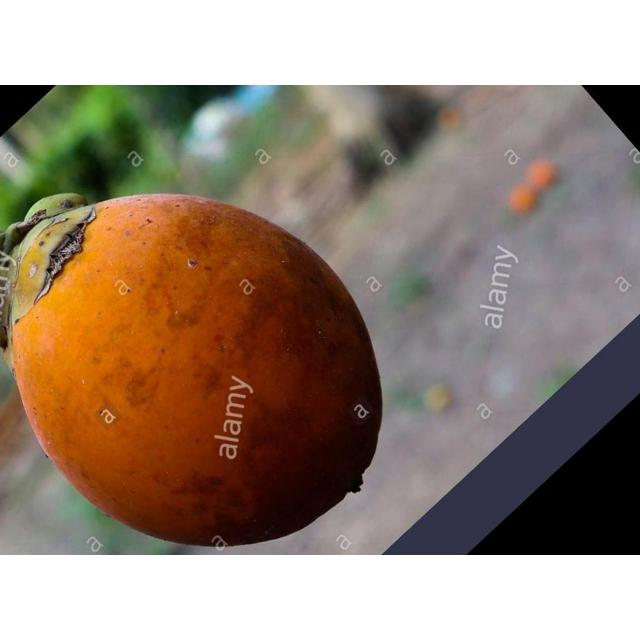good: (2, 194, 383, 549)
